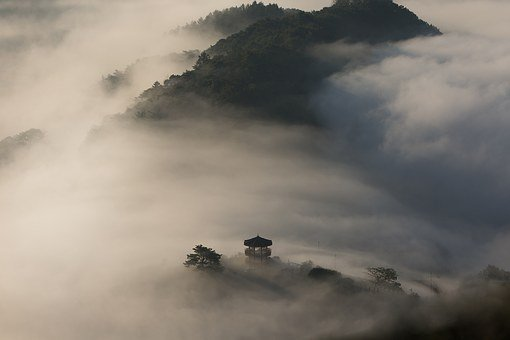mountain: (140, 9, 489, 176)
